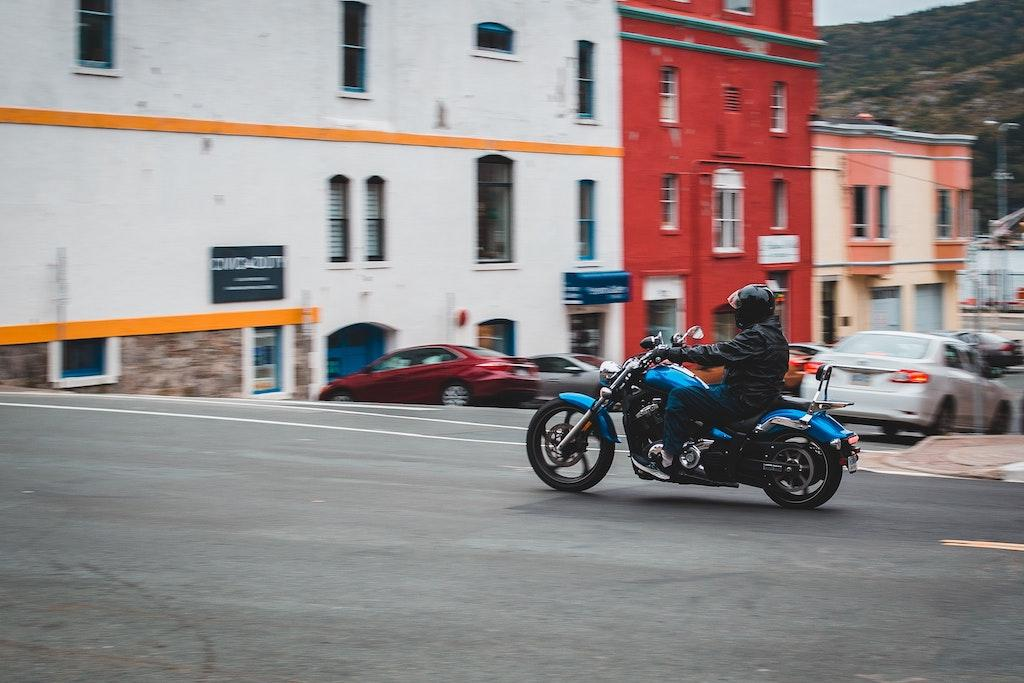helmet: (726, 283, 776, 330)
